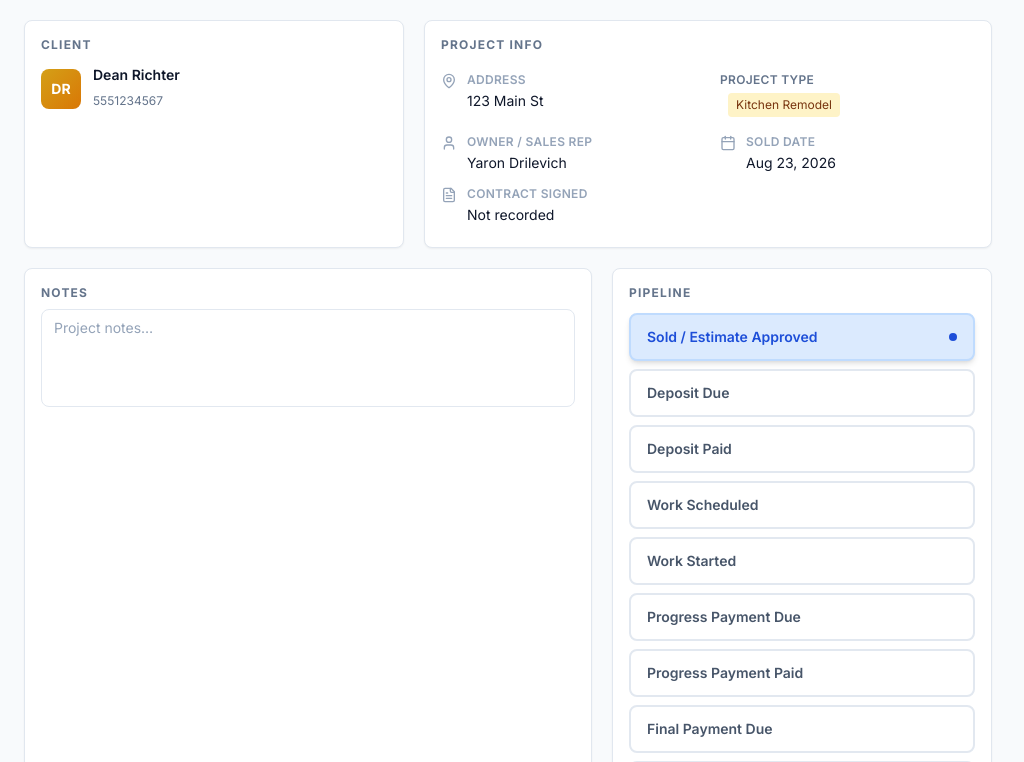
Test: OverviewTab — Project Type editor (production defect: modal opened with an empty body) › REGRESSION: clicking Project Type opens a modal populated with the full canonical EC_PROJECT_TYPES list, with the deal's saved type pre-selected
The width and height of the screenshot is (1024, 762).
Expected: the text "CLIENT" is shown, [41,37,92,52]
Click the text "Project Type": (767, 80) [720,72,814,87]
(page scrolled)
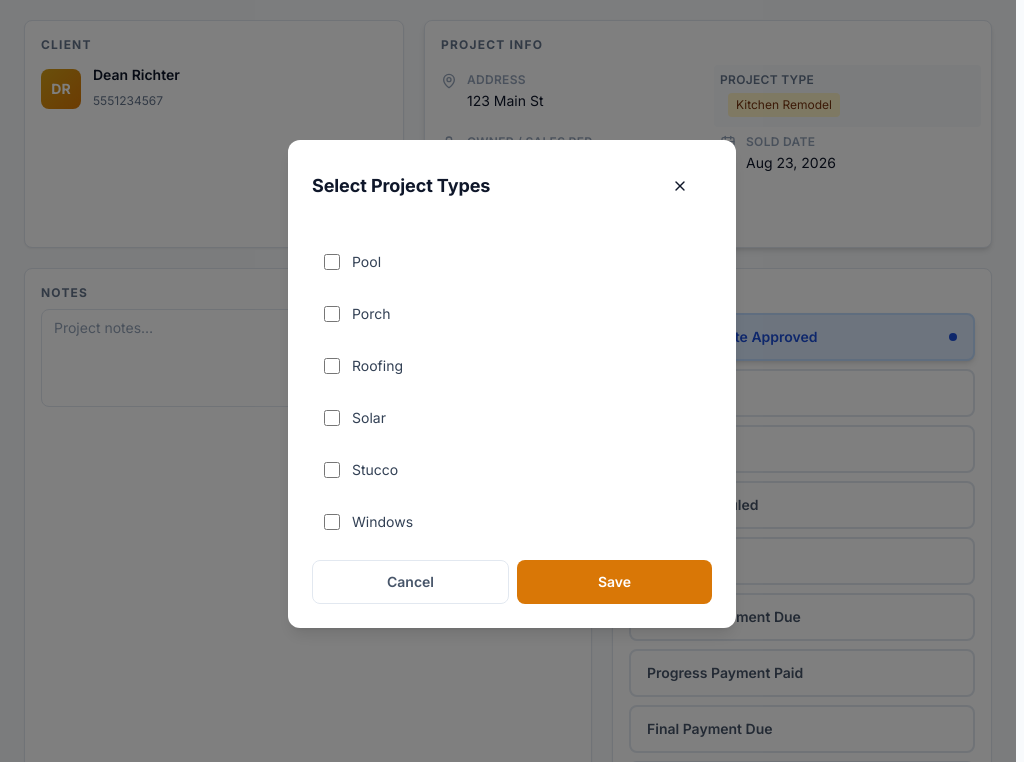
Expected: the checkbox labelled "Pool" is shown, [324,254,340,270]
Expected: the checkbox labelled "Porch" is shown, [324,306,340,322]
Expected: the checkbox labelled "Roofing" is shown, [324,358,340,374]
